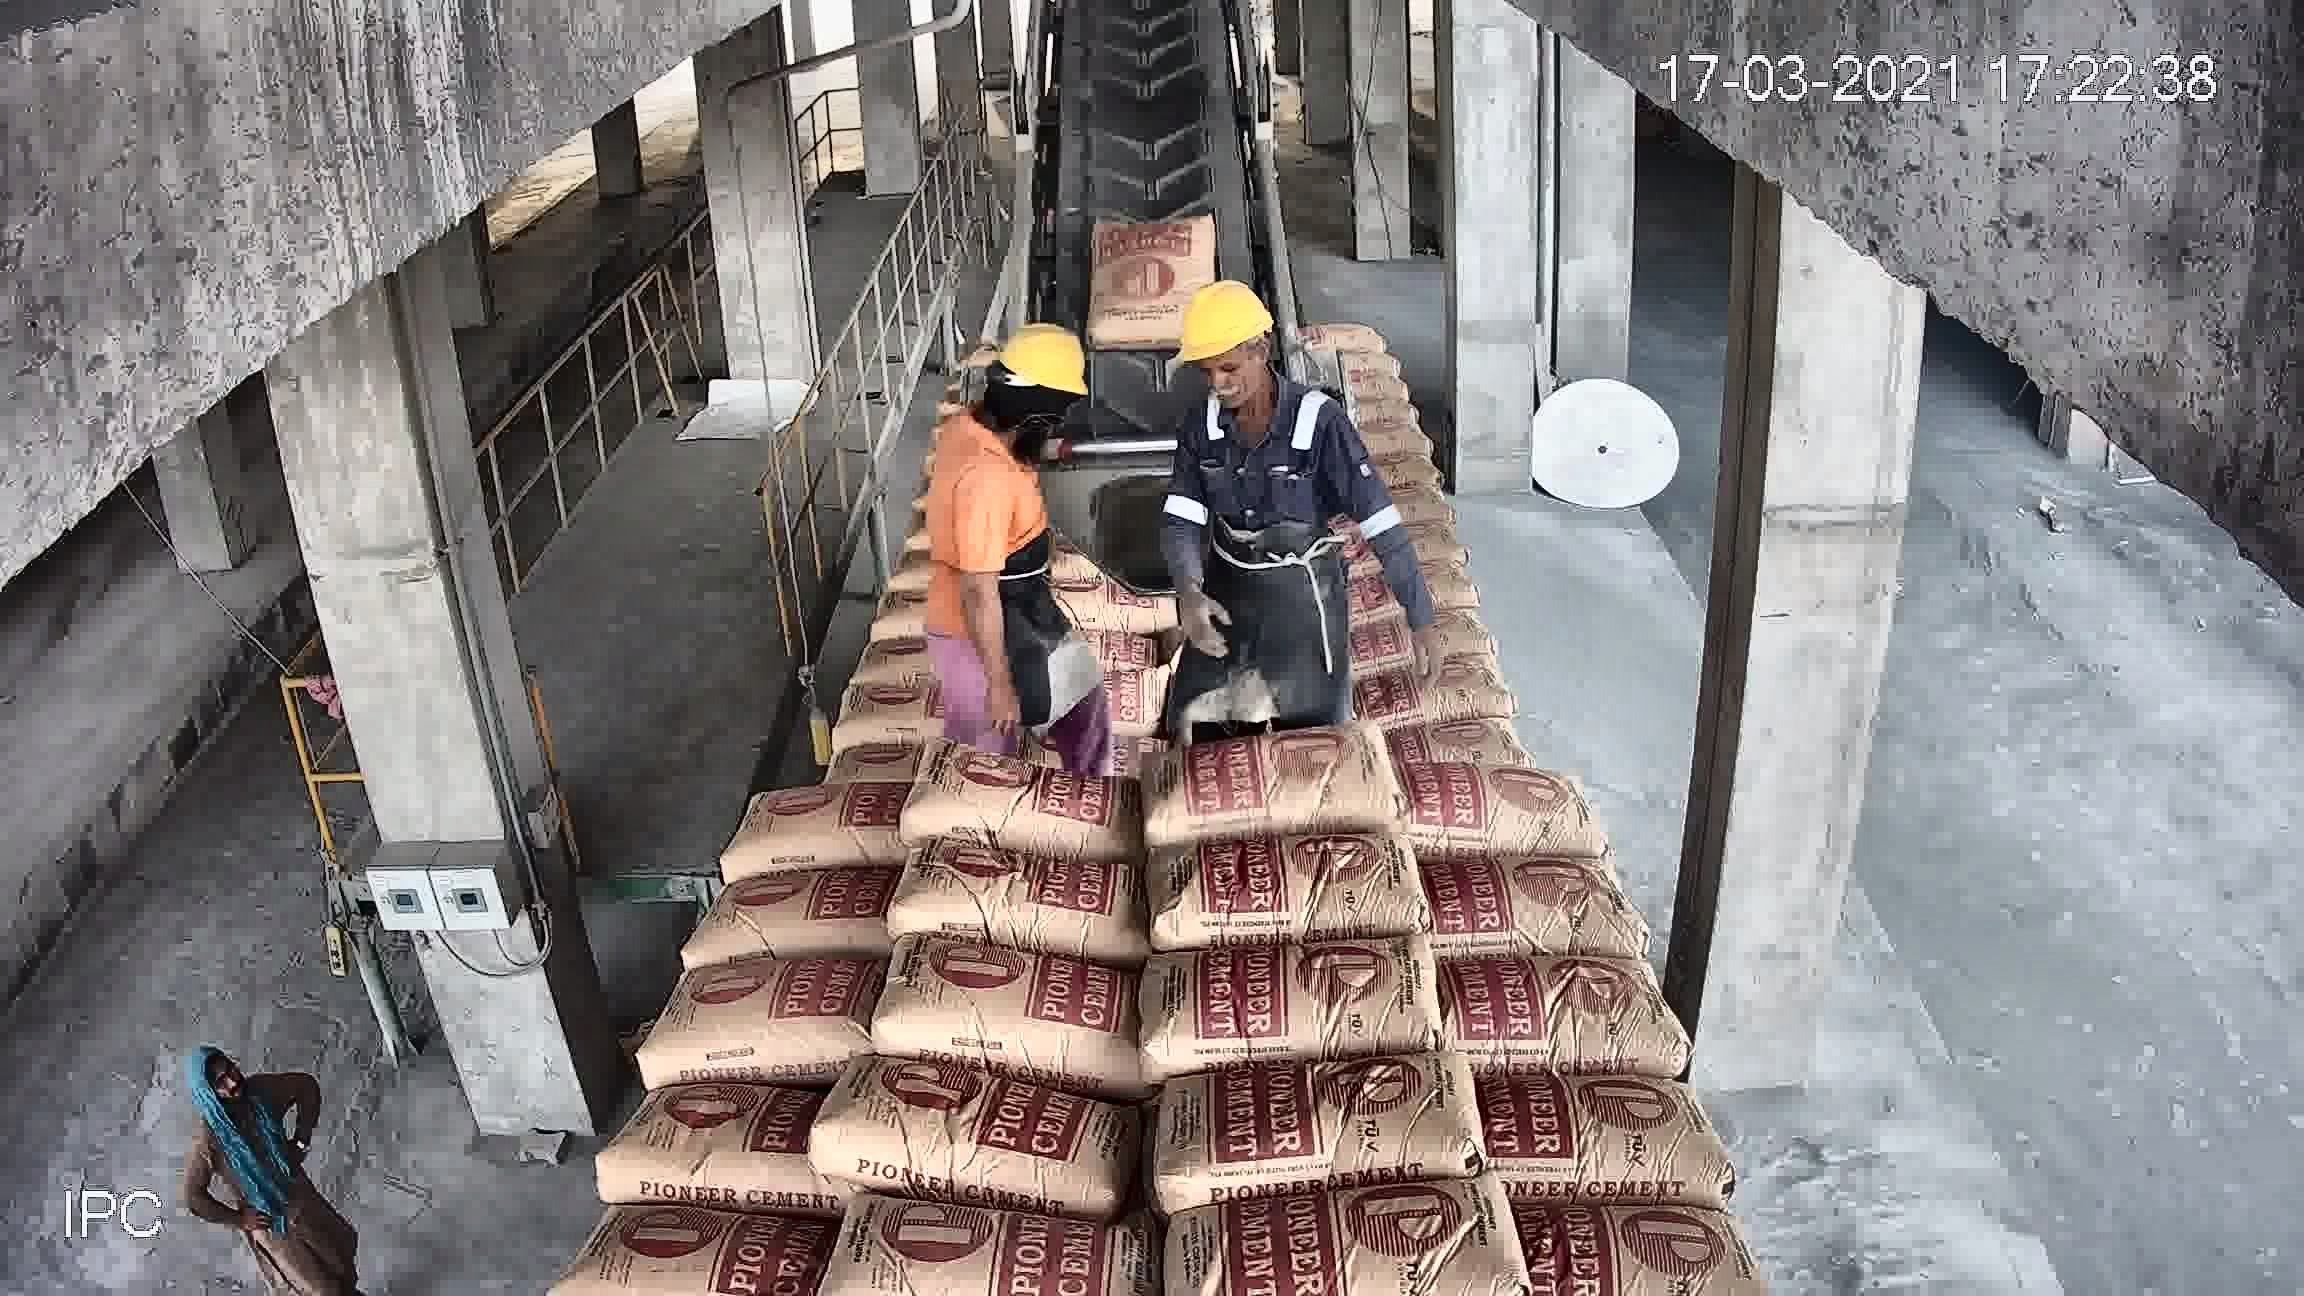bag: (1092, 206, 1230, 337)
bag_h: (1138, 1040, 1461, 1214), (820, 1065, 1169, 1190), (1133, 938, 1451, 1060), (1155, 1177, 1497, 1290), (886, 943, 1143, 1079), (1473, 1067, 1741, 1196), (1514, 1166, 1782, 1294), (1106, 824, 1407, 937), (631, 961, 878, 1092), (829, 1198, 1146, 1296), (1154, 718, 1385, 851), (608, 1078, 831, 1212), (1465, 938, 1692, 1070), (883, 859, 1174, 954), (571, 1214, 858, 1296), (731, 775, 926, 888), (668, 870, 897, 964), (1139, 647, 1372, 733), (1434, 850, 1625, 953), (896, 772, 1128, 840), (736, 711, 937, 788), (1407, 775, 1593, 855), (1378, 674, 1532, 767), (929, 692, 1143, 742), (999, 646, 1135, 699), (1370, 541, 1461, 622), (782, 665, 945, 707), (1035, 536, 1169, 585), (1370, 601, 1491, 650), (1059, 593, 1192, 635), (1396, 647, 1500, 695)
belt: (1025, 25, 1282, 443)
